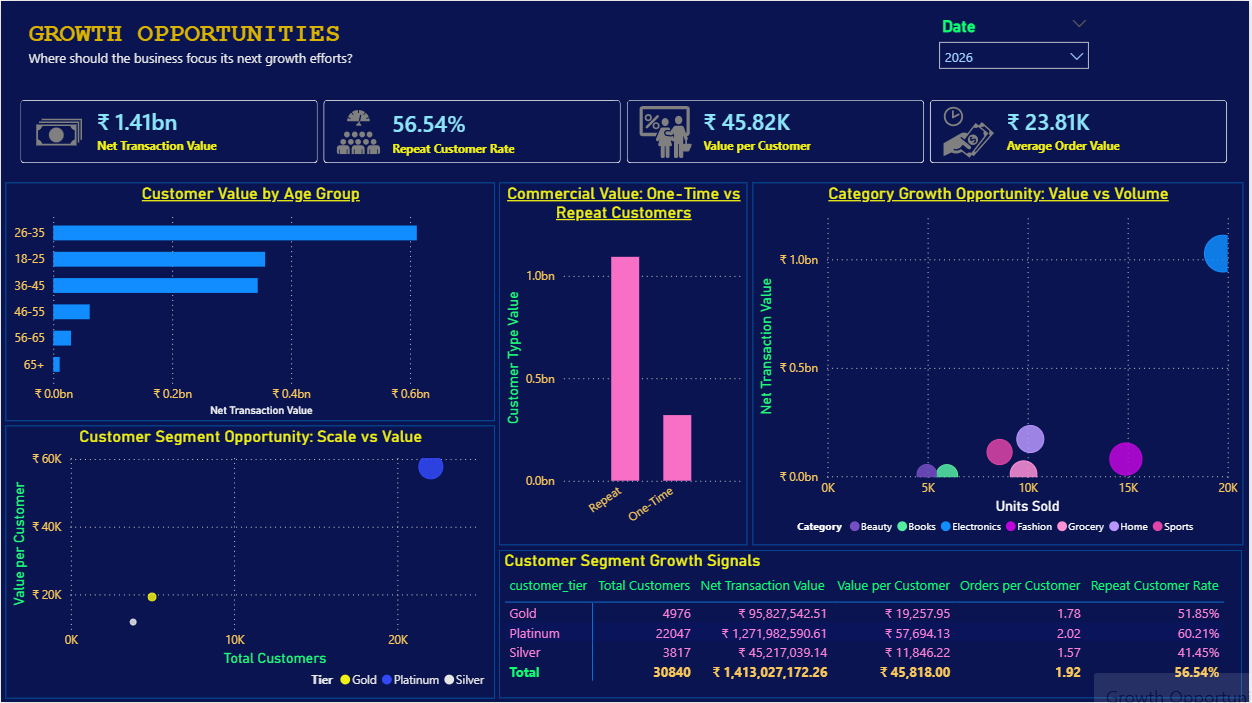

This screenshot's page, from the dashboard's own definition file:
{"tool":"powerbi","page":{"name":"Growth Opportunities","canvas":[1280,720],"ordinal":5},"visuals":[{"type":"clusteredColumnChart","title":"Commercial Value: One-Time vs Repeat Customers","fields":{"Category":["Customer_Behavior.Customer Type"],"Y":["_Measure.Customer Type Value"]},"box":[510.9,185.9,254.7,371.9],"z":0},{"type":"slicer","fields":{"Values":["Dim_Date.Year"]},"box":[952,10.7,173.3,65.3],"z":1000},{"type":"scatterChart","title":"Category Growth Opportunity: Value vs Volume","fields":{"X":["_Measure.Units Sold"],"Y":["_Measure.Net Transaction Value"],"Size":["_Measure.Total Orders"],"Series":["Dim_Products.category"]},"box":[770,186,503.4,372],"z":2000},{"type":"scatterChart","title":"Customer Segment Opportunity: Scale vs Value","fields":{"X":["_Measure.Total Customers"],"Y":["_Measure.Value per Customer"],"Series":["Dim_Customers.customer_tier"],"Size":["_Measure.Net Transaction Value"]},"box":[5,435,501.7,280],"z":3000},{"type":"clusteredBarChart","title":"Customer Value by Age Group","fields":{"Y":["_Measure.Net Transaction Value"],"Category":["Dim_Customers.age_group"]},"box":[4.8,186,501.9,244.9],"z":4000},{"type":"pivotTable","title":"Customer Segment Growth Signals","fields":{"Rows":["Dim_Customers.customer_tier"],"Values":["_Measure.Total Customers","_Measure.Net Transaction Value","_Measure.Value per Customer","_Measure.Orders per Customer","_Measure.Repeat Customer Rate"]},"box":[511.1,563.1,762,152],"z":5000},{"type":"cardVisual","fields":{"Data":["_Measure.Net Transaction Value","_Measure.Repeat Customer Rate","_Measure.Value per Customer","_Measure.Average Order Value"]},"box":[4.8,86.5,1268.6,95.2],"z":6000},{"type":"textbox","box":[23.3,14,604.8,65.1],"z":7000}]}

Visuals, with their boxes in screenshot pixels (x1, y1, x2, y2), scaled from the page's 1280x720 canvas onto the 1252x703 screenshot:
"Commercial Value: One-Time vs Repeat Customers" clusteredColumnChart: region(500, 182, 749, 545)
slicer - Dim_Date.Year: region(931, 10, 1101, 74)
"Category Growth Opportunity: Value vs Volume" scatterChart: region(753, 182, 1246, 545)
"Customer Segment Opportunity: Scale vs Value" scatterChart: region(5, 425, 496, 698)
"Customer Value by Age Group" clusteredBarChart: region(5, 182, 496, 421)
"Customer Segment Growth Signals" pivotTable: region(500, 550, 1245, 698)
cardVisual - _Measure.Net Transaction Value x _Measure.Repeat Customer Rate: region(5, 84, 1246, 177)
textbox: region(23, 14, 614, 77)
